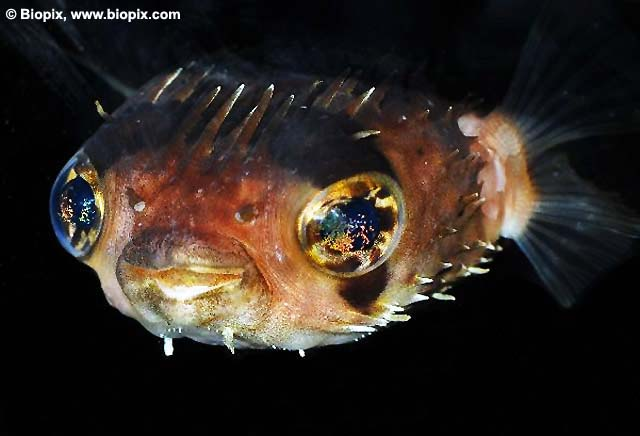Diodon_holocanthus: (37, 33, 640, 387)
